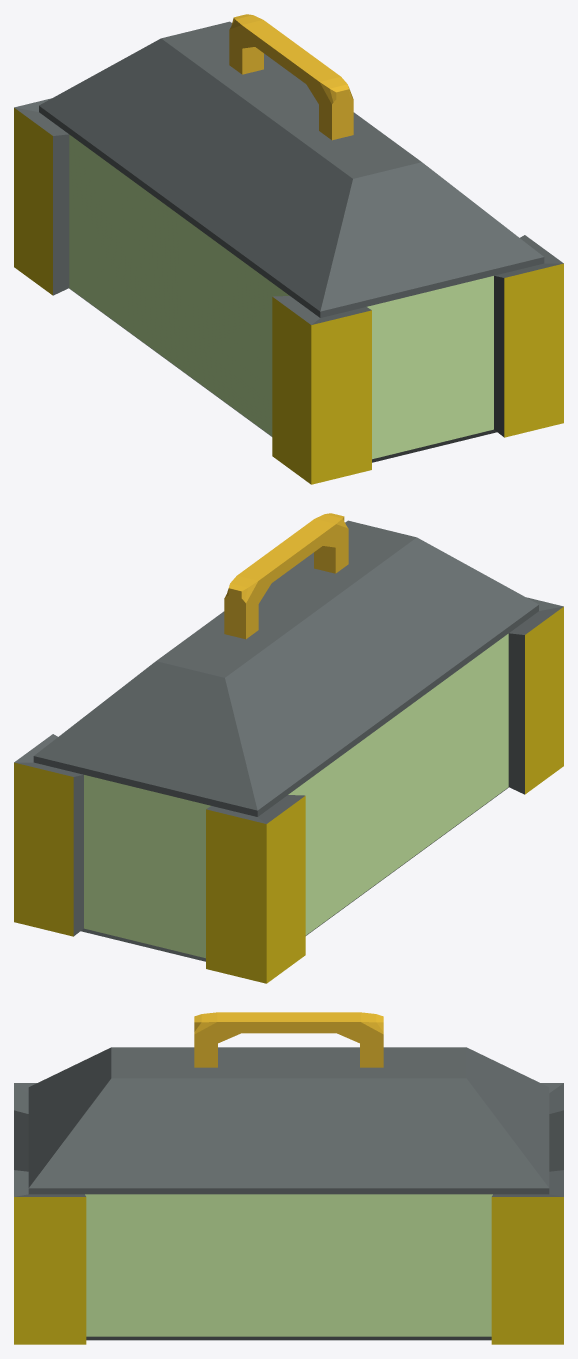
The model's file is kotakPerkakas.fbx.
3 views of the same model, one above another, from view 1: azimuth 30°, elevation 25°; view 2: azimuth 150°, elevation 25°; view 3: azimuth 270°, elevation 25° (orthographic). The views are drawn at different scales.
Visible parts, largest first — view 1: kotak perkakas; view 2: kotak perkakas; view 3: kotak perkakas.
Boxes of the visible parts, x1=… form: kotak perkakas: x1=14, y1=14, x2=563, y2=484; kotak perkakas: x1=14, y1=513, x2=563, y2=983; kotak perkakas: x1=14, y1=1012, x2=563, y2=1344.
Size of the model in its own units: 26.88 by 30.32 by 54.79.
